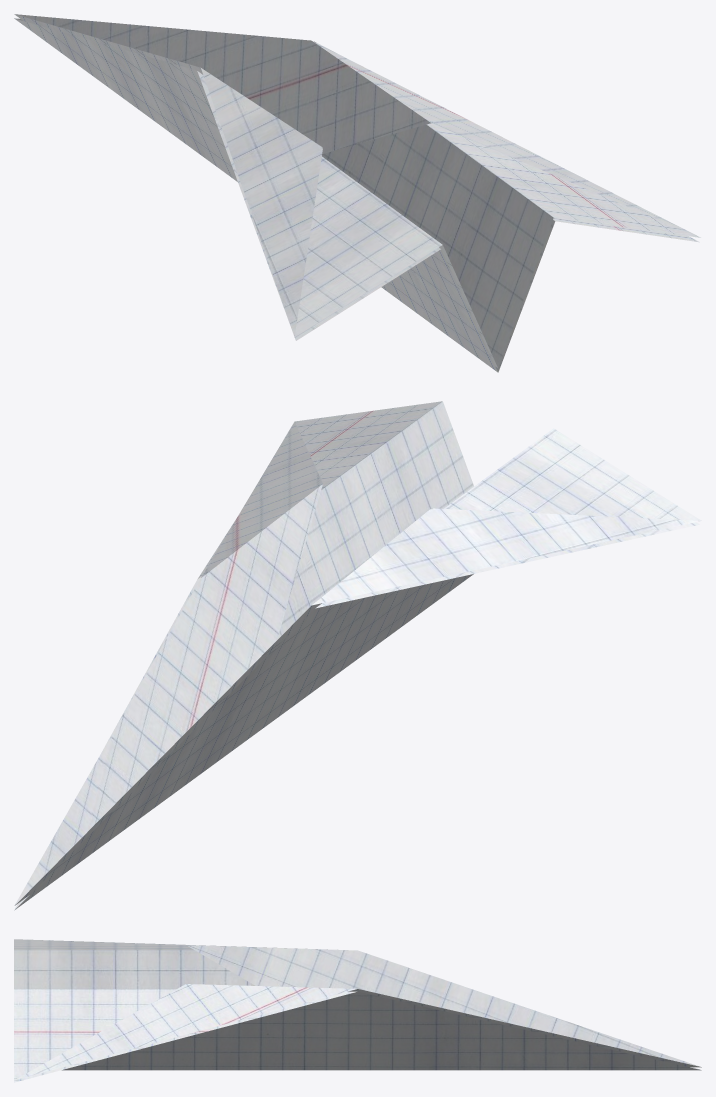
3 renders of one model, top to bottom at view 1: azimuth 30°, elevation 25°; view 2: azimuth 150°, elevation 25°; view 3: azimuth 270°, elevation 25°, orthographic. The views are drawn at different scales.
Parts seen in each view (by area): view 1: Plane001, Plane002; view 2: Plane001, Plane002; view 3: Plane001, Plane002.
Boxes of the visible parts, box(x1,y1,x2,y2) form: Plane001: box(14, 14, 700, 372); Plane002: box(15, 14, 697, 335); Plane001: box(14, 401, 701, 910); Plane002: box(14, 422, 698, 905); Plane001: box(14, 939, 701, 1082); Plane002: box(14, 939, 699, 1080).
Bounding box in the file's own units: 9.96 × 3.5 × 20.5.
